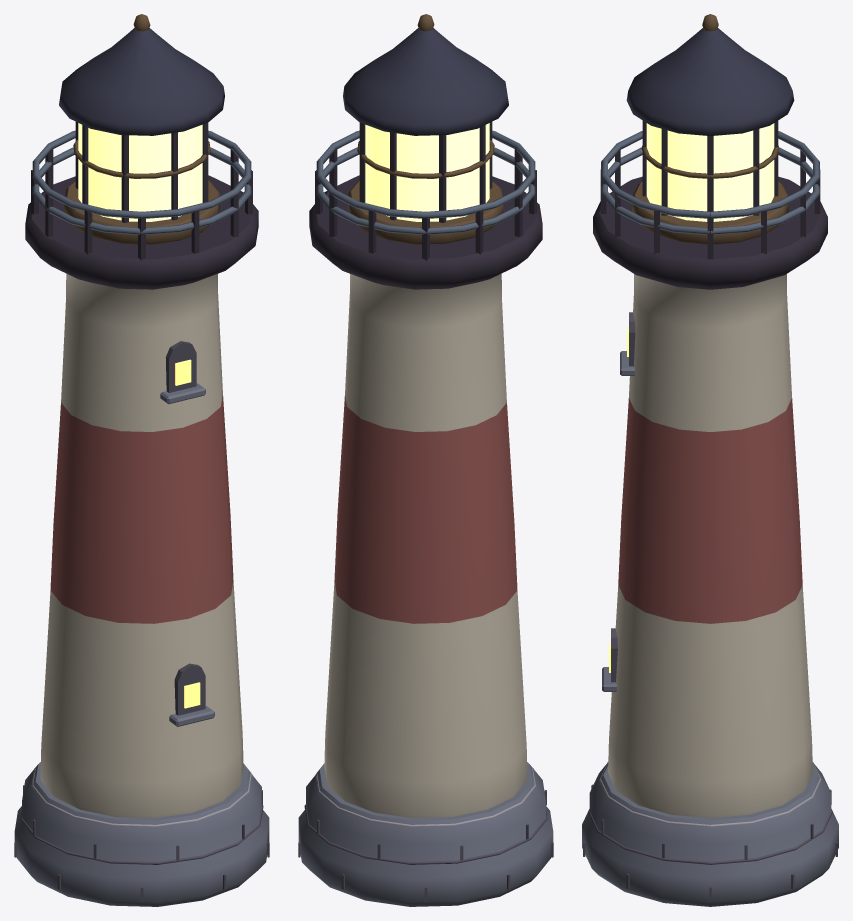
The model's file is lighthouse.glb.
The picture shows the model from 3 angles, left to right: view 1: azimuth 30°, elevation 25°; view 2: azimuth 150°, elevation 25°; view 3: azimuth 270°, elevation 25°; orthographic projection.
Visible parts, largest first — view 1: lighthouse; view 2: lighthouse; view 3: lighthouse.
Boxes of the visible parts, bbox=[...] form: lighthouse: bbox=[14, 14, 269, 906]; lighthouse: bbox=[298, 14, 553, 906]; lighthouse: bbox=[582, 14, 838, 906].
Size of the model in its own units: 1.19 by 4.29 by 1.19.
